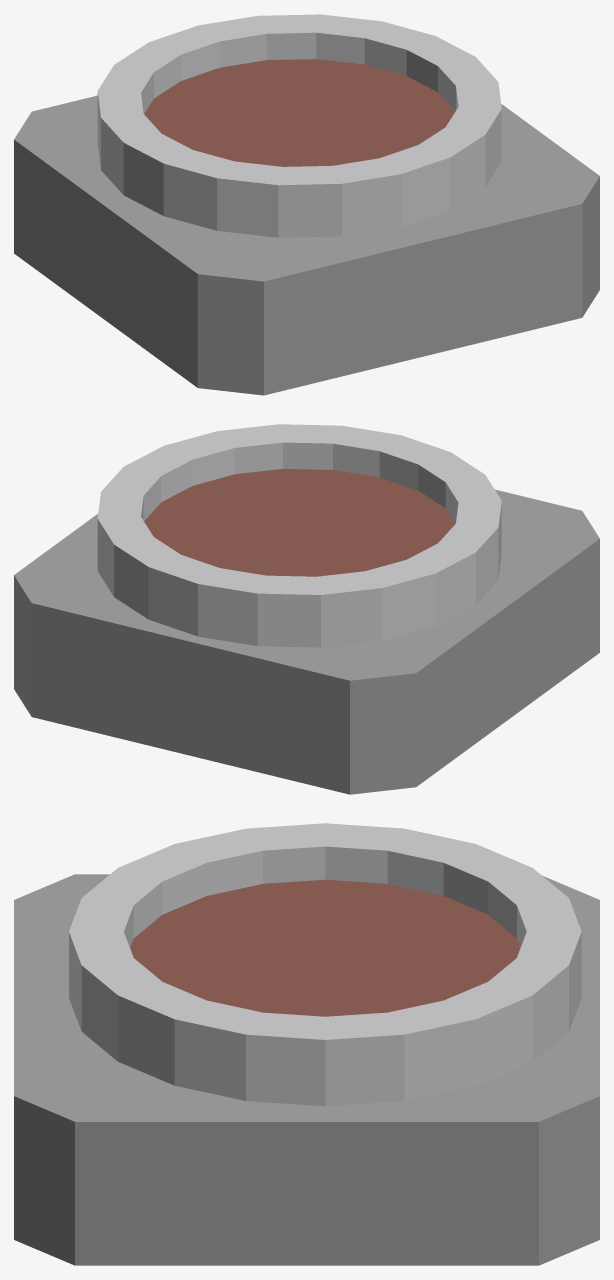
File: vge_gravjumper_engine_cooldown.obj
3 renders of one model, top to bottom at view 1: azimuth 30°, elevation 25°; view 2: azimuth 150°, elevation 25°; view 3: azimuth 270°, elevation 25°, orthographic. The views are drawn at different scales.
Parts seen in each view (by area): view 1: vge_gravjumper_engine_cooldown_0, vge_gravjumper_engine_cooldown_1, vge_gravjumper_engine_cooldown_2; view 2: vge_gravjumper_engine_cooldown_0, vge_gravjumper_engine_cooldown_1, vge_gravjumper_engine_cooldown_2; view 3: vge_gravjumper_engine_cooldown_0, vge_gravjumper_engine_cooldown_1, vge_gravjumper_engine_cooldown_2.
Boxes of the visible parts, x1,y1,x2,y2 form: vge_gravjumper_engine_cooldown_0: (14,95,599,395); vge_gravjumper_engine_cooldown_1: (97,14,501,237); vge_gravjumper_engine_cooldown_2: (144,59,455,166); vge_gravjumper_engine_cooldown_0: (14,489,599,794); vge_gravjumper_engine_cooldown_1: (97,424,501,647); vge_gravjumper_engine_cooldown_2: (144,469,454,576); vge_gravjumper_engine_cooldown_0: (14,874,599,1265); vge_gravjumper_engine_cooldown_1: (69,823,581,1106); vge_gravjumper_engine_cooldown_2: (130,879,520,1016).
Size of the model in its own units: 0.96 by 0.38 by 0.96.
